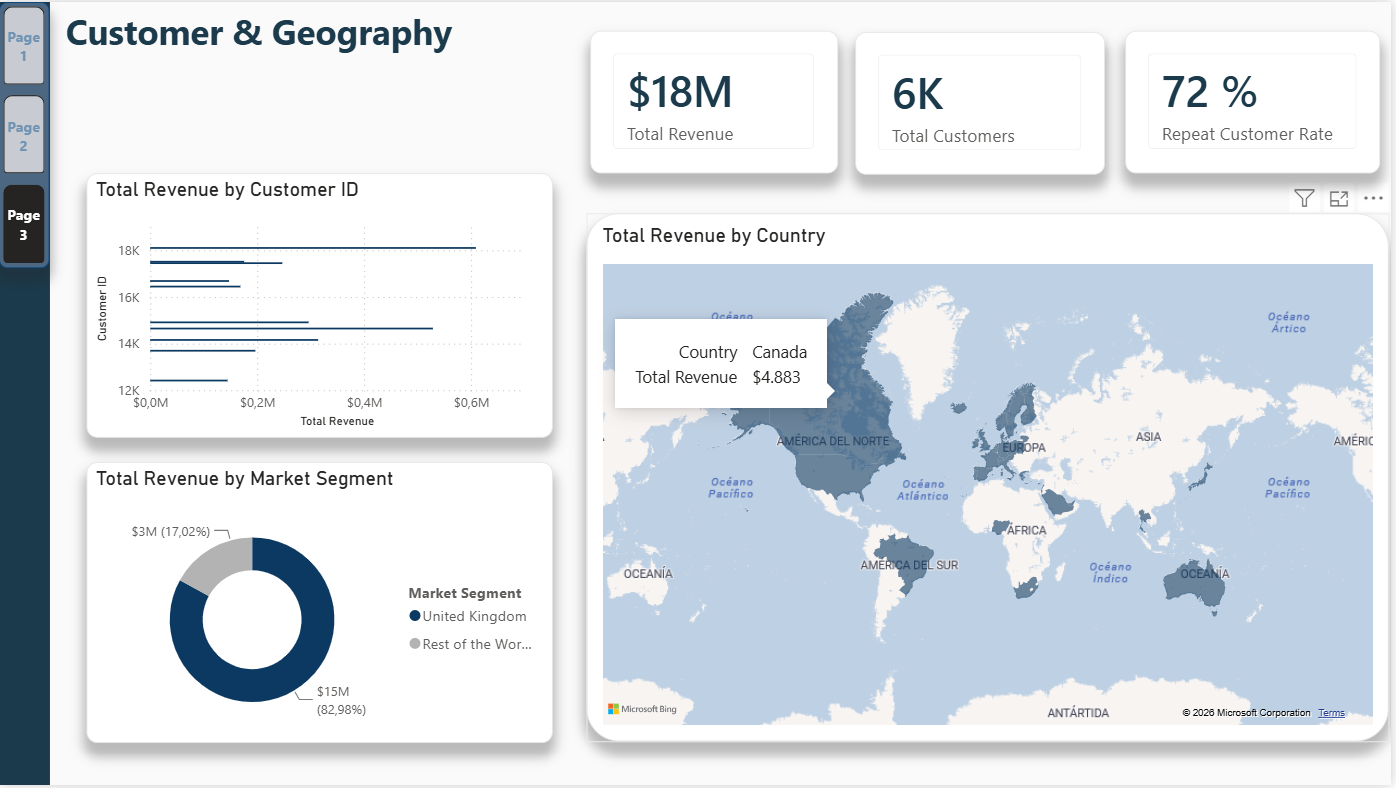

This screenshot's page, from the dashboard's own definition file:
{"tool":"powerbi","page":{"name":"Page 3","canvas":[1280,720],"ordinal":2},"visuals":[{"type":"textbox","box":[56.8,0,386.4,52.4],"z":0},{"type":"shape","box":[-0.7,0,48,720],"z":1000},{"type":"pageNavigator","box":[0,0,46.6,244.8],"z":2000},{"type":"filledMap","fields":{"Category":["online_retail_cleaned.Country"]},"box":[540.6,194.8,737.6,485.9],"z":3000},{"type":"cardVisual","fields":{"Data":["online_retail_cleaned.Total Revenue"]},"box":[543.2,26.4,227.6,130.8],"z":4000},{"type":"cardVisual","fields":{"Data":["online_retail_cleaned.Total Customers"]},"box":[787.3,27.5,229.8,130.8],"z":5000},{"type":"cardVisual","fields":{"Data":["online_retail_cleaned.Repeat Customer Rate"]},"box":[1035.8,26.4,234.2,130.8],"z":6000},{"type":"clusteredBarChart","fields":{"Category":["online_retail_cleaned.Customer ID"],"Y":["online_retail_cleaned.Total Revenue"]},"box":[81,157.6,429,243],"z":7000},{"type":"donutChart","fields":{"Category":["online_retail_cleaned.Market Segment"],"Y":["online_retail_cleaned.Total Revenue"]},"box":[81,422.4,429,258.3],"z":8000}]}

Visuals, with their boxes on the page's 1280x720 design canvas (x1, y1, x2, y2). These are canvas units, not pixel positions in the 1396x788 screenshot, which may show the page scaled, cropped or inside an application window:
textbox: <box>57,0,443,52</box>
shape: <box>-1,0,47,720</box>
pageNavigator: <box>0,0,47,245</box>
filledMap - online_retail_cleaned.Country: <box>541,195,1278,681</box>
cardVisual - online_retail_cleaned.Total Revenue: <box>543,26,771,157</box>
cardVisual - online_retail_cleaned.Total Customers: <box>787,28,1017,158</box>
cardVisual - online_retail_cleaned.Repeat Customer Rate: <box>1036,26,1270,157</box>
clusteredBarChart - online_retail_cleaned.Customer ID x online_retail_cleaned.Total Revenue: <box>81,158,510,401</box>
donutChart - online_retail_cleaned.Market Segment x online_retail_cleaned.Total Revenue: <box>81,422,510,681</box>
